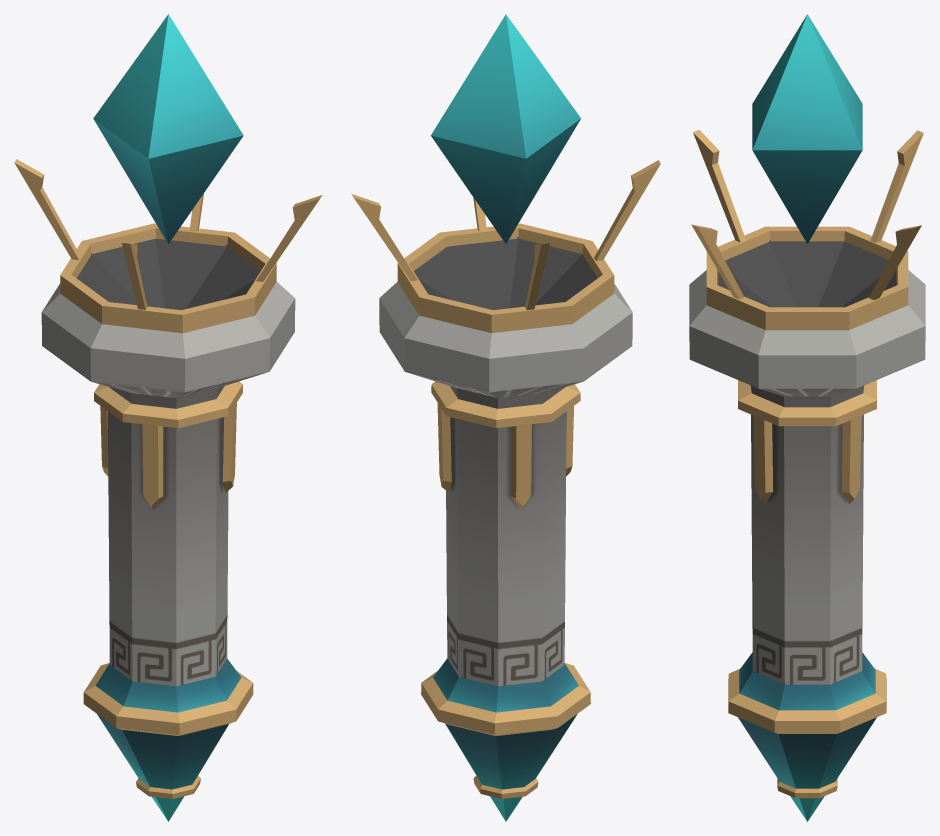
The model's file is column_zeus.FBX.
3 renders of one model, left to right at view 1: azimuth 30°, elevation 25°; view 2: azimuth 150°, elevation 25°; view 3: azimuth 270°, elevation 25°, orthographic.
Parts seen in each view (by area): view 1: Object011; view 2: Object011; view 3: Object011.
Part boxes in pixels (x1=…): Object011: x1=14, y1=14, x2=322, y2=821; Object011: x1=351, y1=14, x2=660, y2=821; Object011: x1=689, y1=14, x2=925, y2=821.
Bounding box in the file's own units: 116 × 437 × 116.
